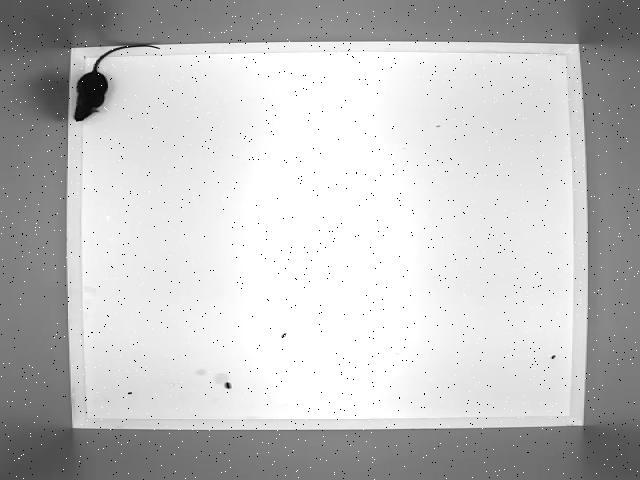Tikus: (70, 43, 162, 123)
